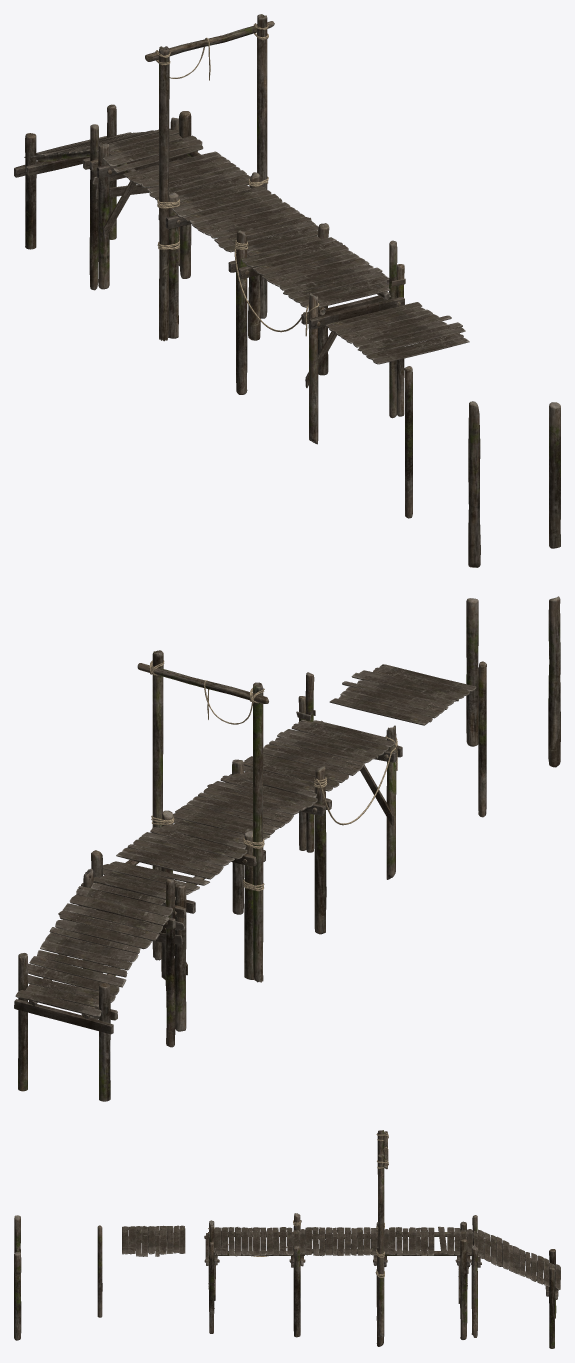
The model's file is modular_wooden_pier.glb.
The picture shows the model from 3 angles, top to bottom: view 1: azimuth 30°, elevation 25°; view 2: azimuth 150°, elevation 25°; view 3: azimuth 270°, elevation 25°; orthographic projection. The views are drawn at different scales.
Parts seen in each view (by area): view 1: modular_wooden_pier_section_01, modular_wooden_pier_section_03, modular_wooden_pier_section_02, modular_wooden_pier_section_05, modular_wooden_pier_section_04, modular_wooden_pier_planks, modular_wooden_pier_poles; view 2: modular_wooden_pier_section_04, modular_wooden_pier_section_01, modular_wooden_pier_section_03, modular_wooden_pier_section_02, modular_wooden_pier_section_05, modular_wooden_pier_poles, modular_wooden_pier_planks; view 3: modular_wooden_pier_section_01, modular_wooden_pier_section_04, modular_wooden_pier_section_03, modular_wooden_pier_section_02, modular_wooden_pier_planks, modular_wooden_pier_section_05, modular_wooden_pier_poles.
Boxes of the visible parts, x1,y1,x2,y2 form: modular_wooden_pier_section_01: [228, 223, 405, 444]; modular_wooden_pier_section_03: [89, 111, 250, 289]; modular_wooden_pier_section_02: [158, 172, 318, 340]; modular_wooden_pier_section_05: [145, 14, 274, 341]; modular_wooden_pier_section_04: [14, 104, 179, 290]; modular_wooden_pier_planks: [325, 302, 469, 364]; modular_wooden_pier_poles: [404, 366, 560, 567]; modular_wooden_pier_section_04: [14, 868, 175, 1101]; modular_wooden_pier_section_01: [225, 672, 402, 934]; modular_wooden_pier_section_03: [81, 827, 247, 1031]; modular_wooden_pier_section_02: [152, 775, 317, 979]; modular_wooden_pier_section_05: [137, 650, 268, 982]; modular_wooden_pier_poles: [466, 596, 560, 817]; modular_wooden_pier_planks: [329, 664, 476, 725]; modular_wooden_pier_section_01: [204, 1213, 305, 1337]; modular_wooden_pier_section_04: [471, 1215, 560, 1348]; modular_wooden_pier_section_03: [376, 1221, 473, 1339]; modular_wooden_pier_section_02: [292, 1222, 389, 1346]; modular_wooden_pier_planks: [122, 1225, 185, 1256]; modular_wooden_pier_section_05: [375, 1130, 388, 1337]; modular_wooden_pier_poles: [14, 1215, 102, 1340].
Size of the model in its own units: 3.1 by 7.51 by 19.03.
Materials: 2 (2 with a texture image).
